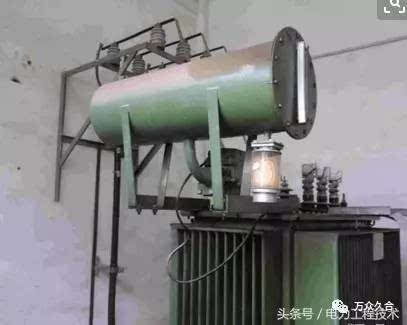oil: (184, 35, 274, 81)
